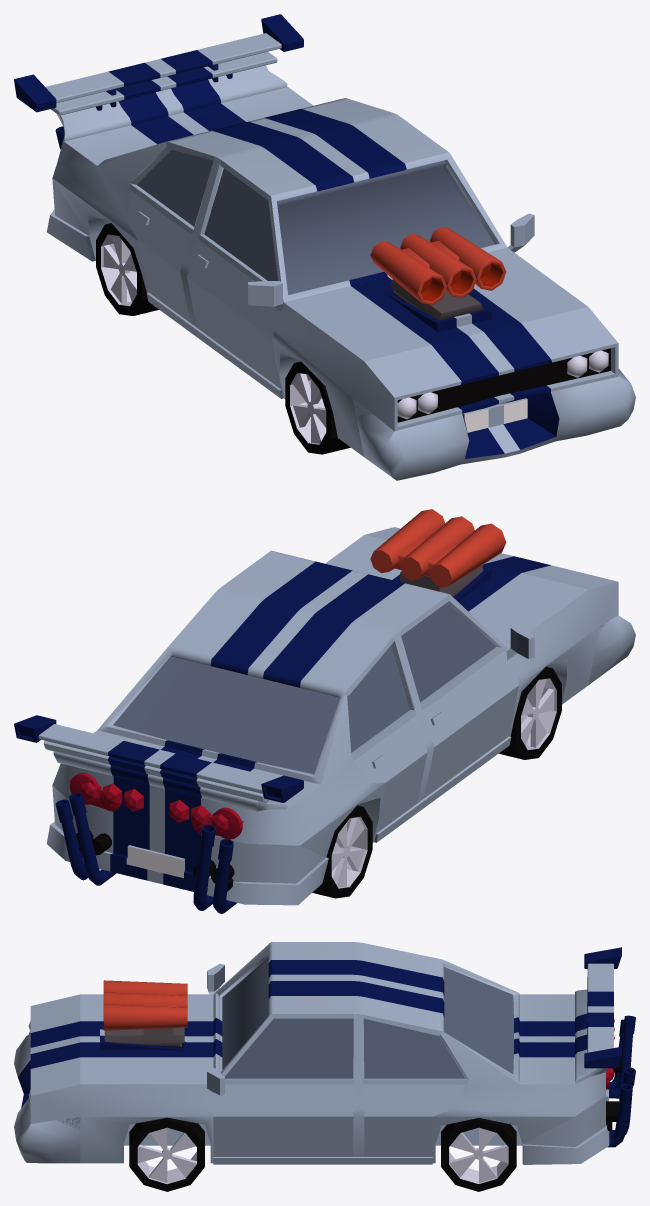
File: car.fbx
The picture shows the model from 3 angles, top to bottom: view 1: azimuth 30°, elevation 25°; view 2: azimuth 150°, elevation 25°; view 3: azimuth 270°, elevation 25°; orthographic projection. The views are drawn at different scales.
Parts seen in each view (by area): view 1: Carcas, Bumper, Engine1, Bumper3, Engine3, spoiler3, spoiler1, Muscle 2 wheel front right, Bumper2, Muscle 2 wheel rear right, spoiler2, Engine2; view 2: Bumper, Carcas, Engine3, Bumper3, Bumper2, spoiler3, Engine1, Muscle 2 wheel front right, Muscle 2 wheel rear right, spoiler1, spoiler2, Engine2; view 3: Bumper, Carcas, Engine3, Bumper3, Engine1, Bumper2, Muscle 2 wheel front left, Muscle 2 wheel rear left, spoiler3, Engine2, spoiler1.
Boxes of the visible parts, x1,y1,x2,y2 form: Carcas: (52,87,618,456); Bumper: (53,141,544,432); Engine1: (284,247,617,397); Bumper3: (55,126,635,480); Engine3: (311,226,617,396); spoiler3: (14,14,303,112); spoiler1: (57,65,287,141); Muscle 2 wheel front right: (285,361,350,454); Bumper2: (47,178,559,439); Muscle 2 wheel rear right: (96,223,158,315); spoiler2: (50,51,277,115); Engine2: (351,277,507,344); Bumper: (71,594,608,891); Carcas: (52,550,618,845); Engine3: (328,509,617,623); Bumper3: (55,615,635,913); Bumper2: (46,624,606,905); spoiler3: (14,715,303,802); Engine1: (325,527,595,648); Muscle 2 wheel front right: (499,667,561,759); Muscle 2 wheel rear right: (312,805,372,898); spoiler1: (53,751,287,811); spoiler2: (43,740,269,802); Engine2: (393,564,514,610); Bumper: (35,953,614,1163); Carcas: (28,942,605,1163); Engine3: (30,980,187,1095); Bumper3: (14,1015,635,1164); Engine1: (30,994,213,1094); Bumper2: (18,1058,621,1164); Muscle 2 wheel front left: (129,1117,204,1191); Muscle 2 wheel rear left: (441,1118,516,1191); spoiler3: (584,947,621,1068); Engine2: (90,1021,213,1057); spoiler1: (575,989,607,1083).
Size of the model in its own units: 2.81 by 1.91 by 6.42.
11 materials, 1 textured.
